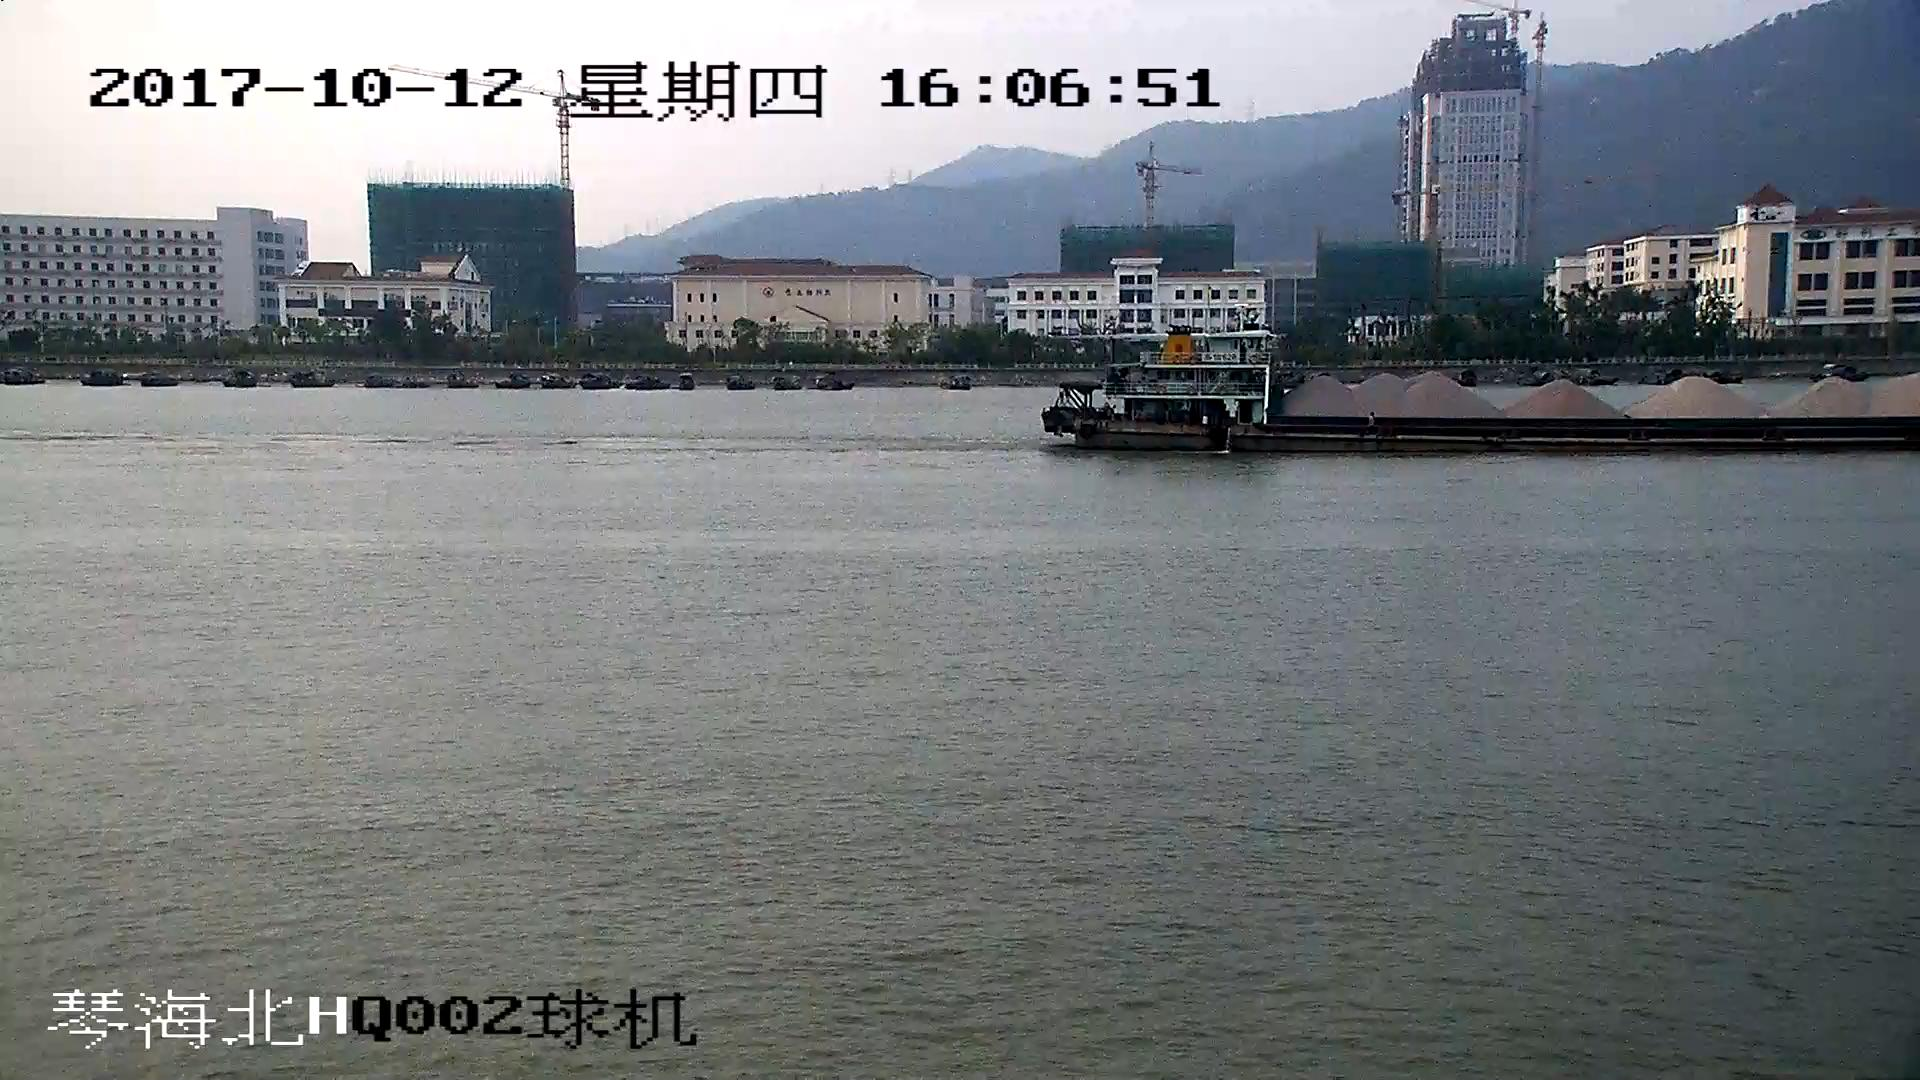ore carrier: (1048, 334, 1920, 451)
